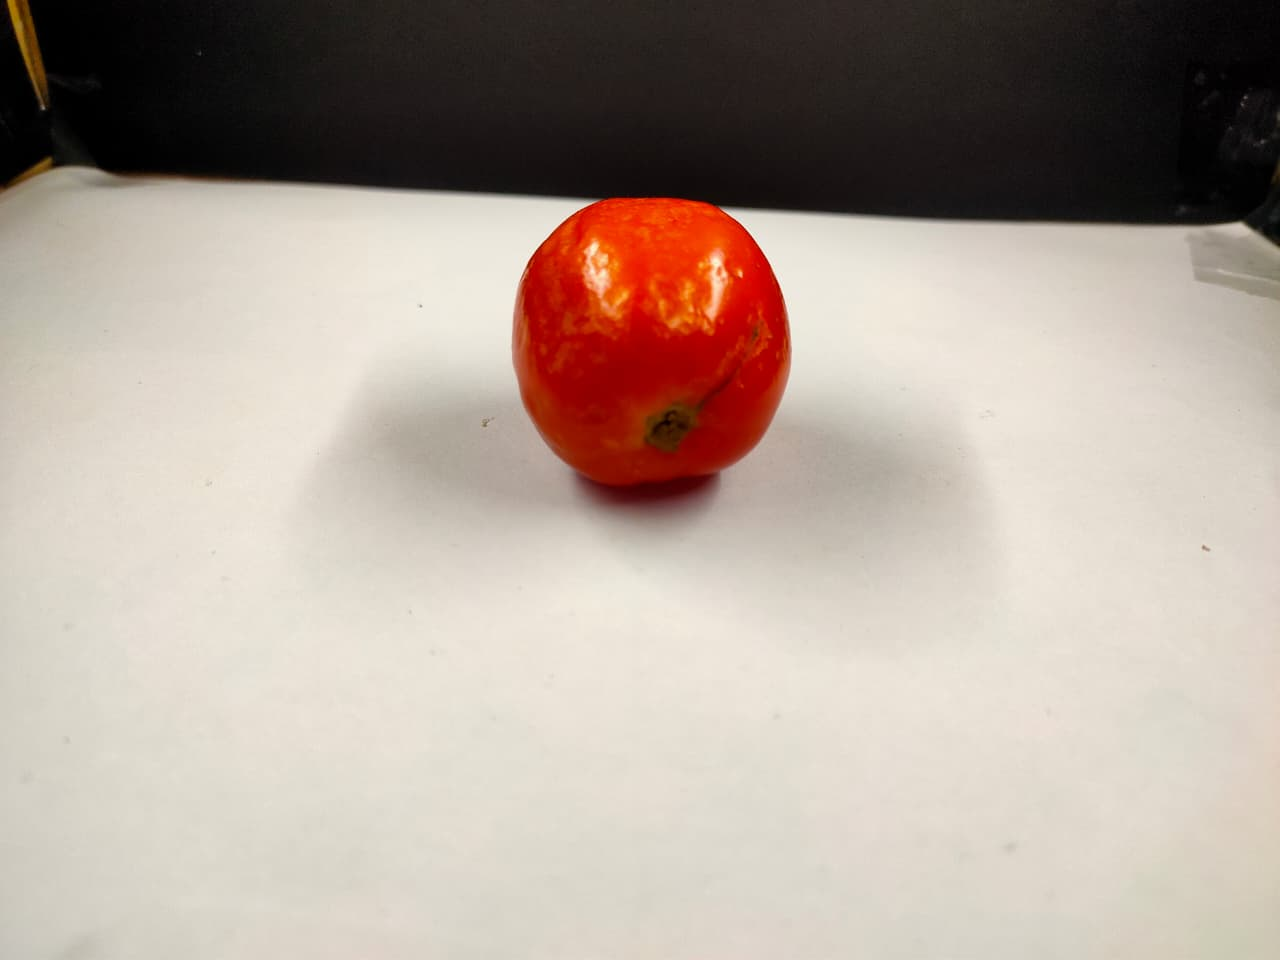damaged: (513, 196, 796, 501)
